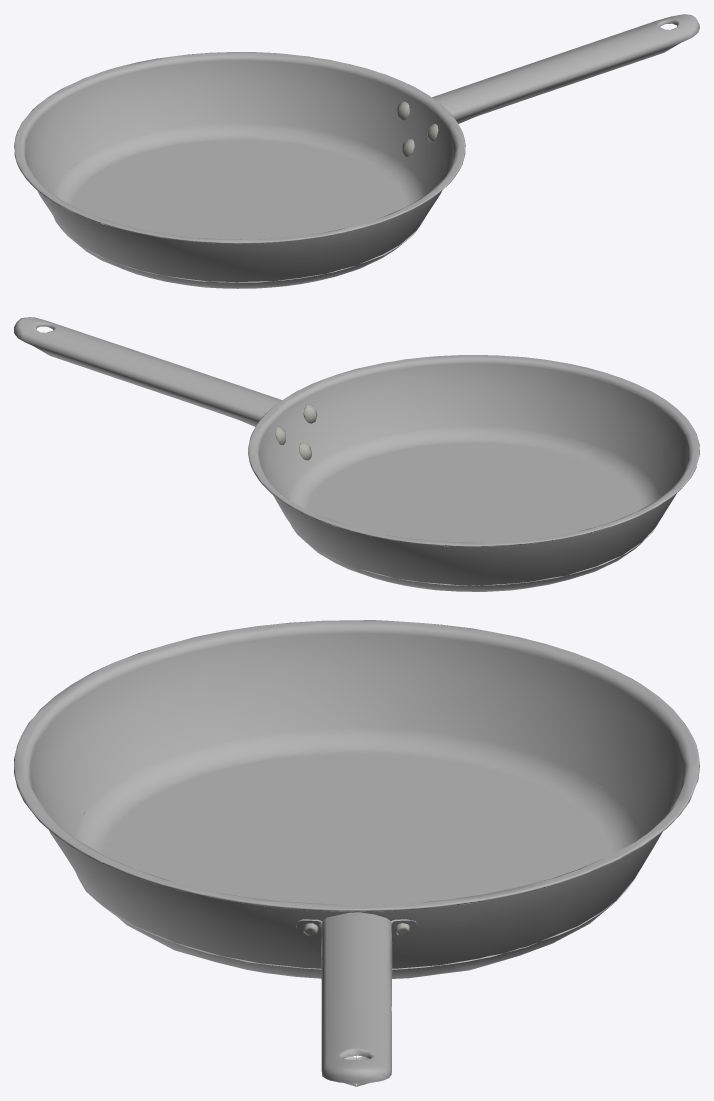
Rendered from ikea_365_patelnia_50582736.glb.
The picture shows the model from 3 angles, top to bottom: view 1: azimuth 30°, elevation 25°; view 2: azimuth 150°, elevation 25°; view 3: azimuth 270°, elevation 25°; orthographic projection. The views are drawn at different scales.
Visible parts, largest first — view 1: ikea_365_patelnia_50582736; view 2: ikea_365_patelnia_50582736; view 3: ikea_365_patelnia_50582736.
Boxes of the visible parts, box(x1,y1,x2,y2) form: ikea_365_patelnia_50582736: box(14, 14, 699, 288); ikea_365_patelnia_50582736: box(14, 317, 699, 591); ikea_365_patelnia_50582736: box(14, 620, 699, 1086).
Bounding box in the file's own units: 0.4918 × 0.0656 × 0.2947.
Materials: 1 (1 with a texture image).
